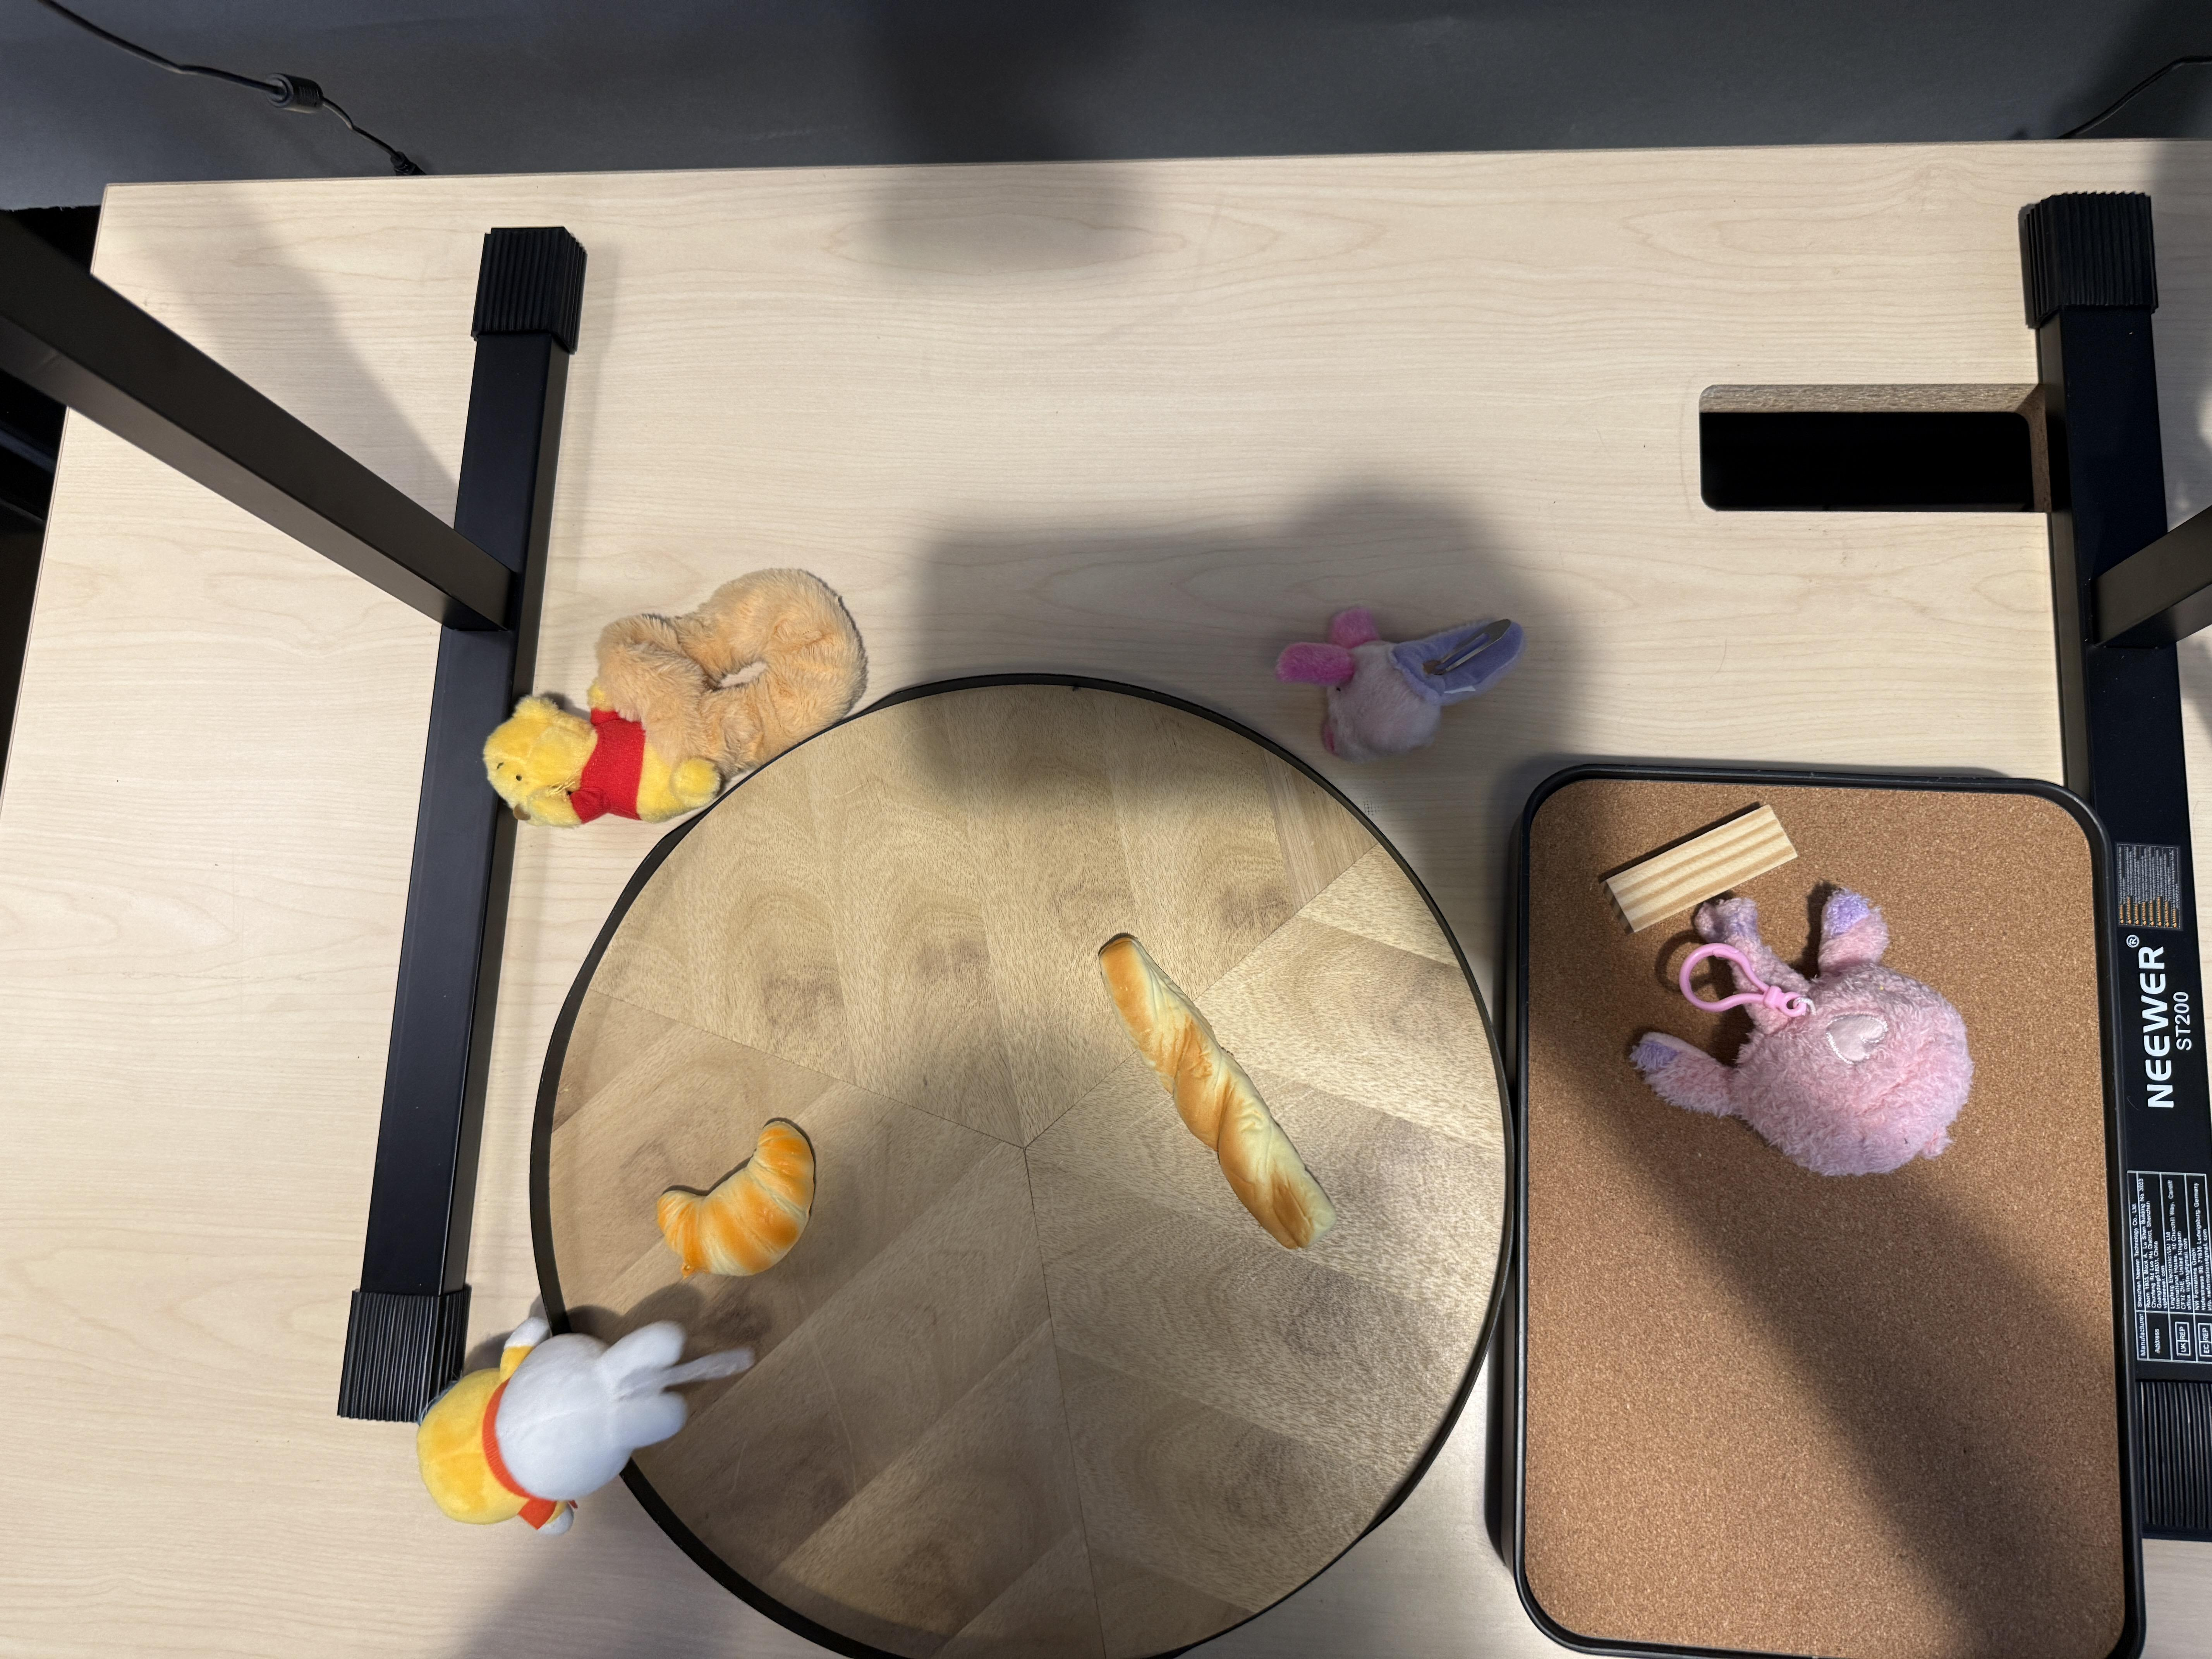block: (1601, 803, 1799, 929)
bread: (1099, 938, 1338, 1249), (657, 1126, 815, 1286)
doll: (1635, 892, 1982, 1180), (482, 573, 869, 824), (415, 1314, 770, 1532), (1280, 605, 1529, 762)
